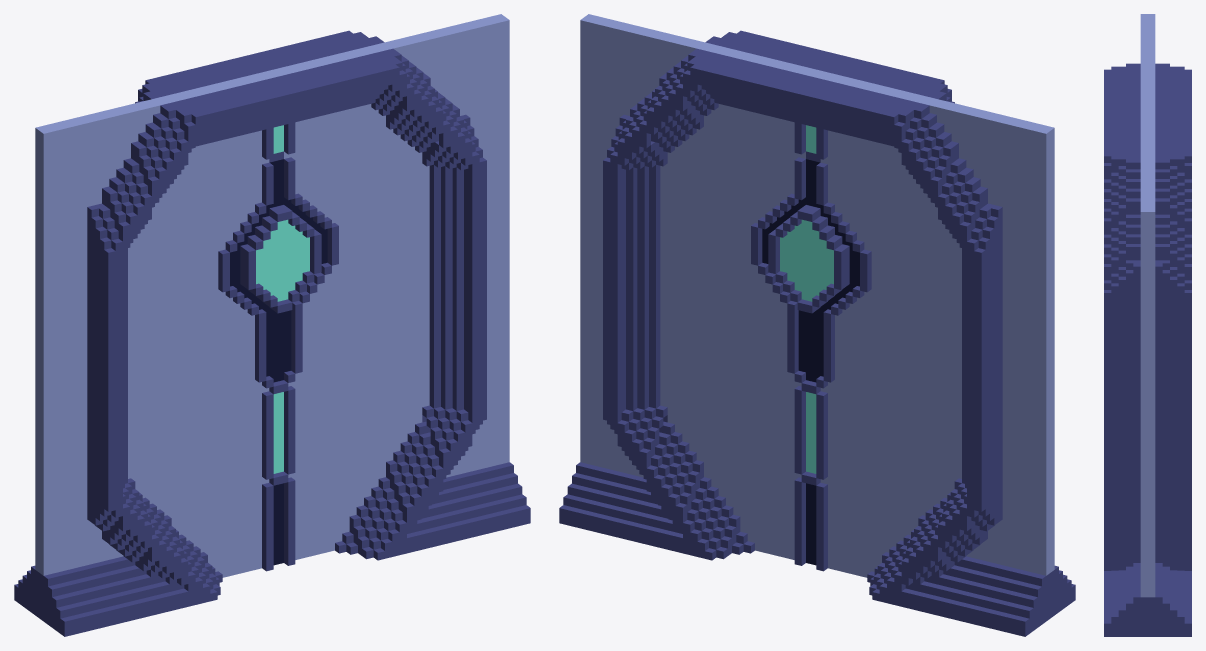
Rendered from puerta.obj.
3 views of the same model, side by side, from view 1: azimuth 30°, elevation 25°; view 2: azimuth 150°, elevation 25°; view 3: azimuth 270°, elevation 25° (orthographic). The views are drawn at different scales.
Bounding box in the file's own units: 6.4 × 6.4 × 1.2.
Materials: 1 (1 with a texture image).
